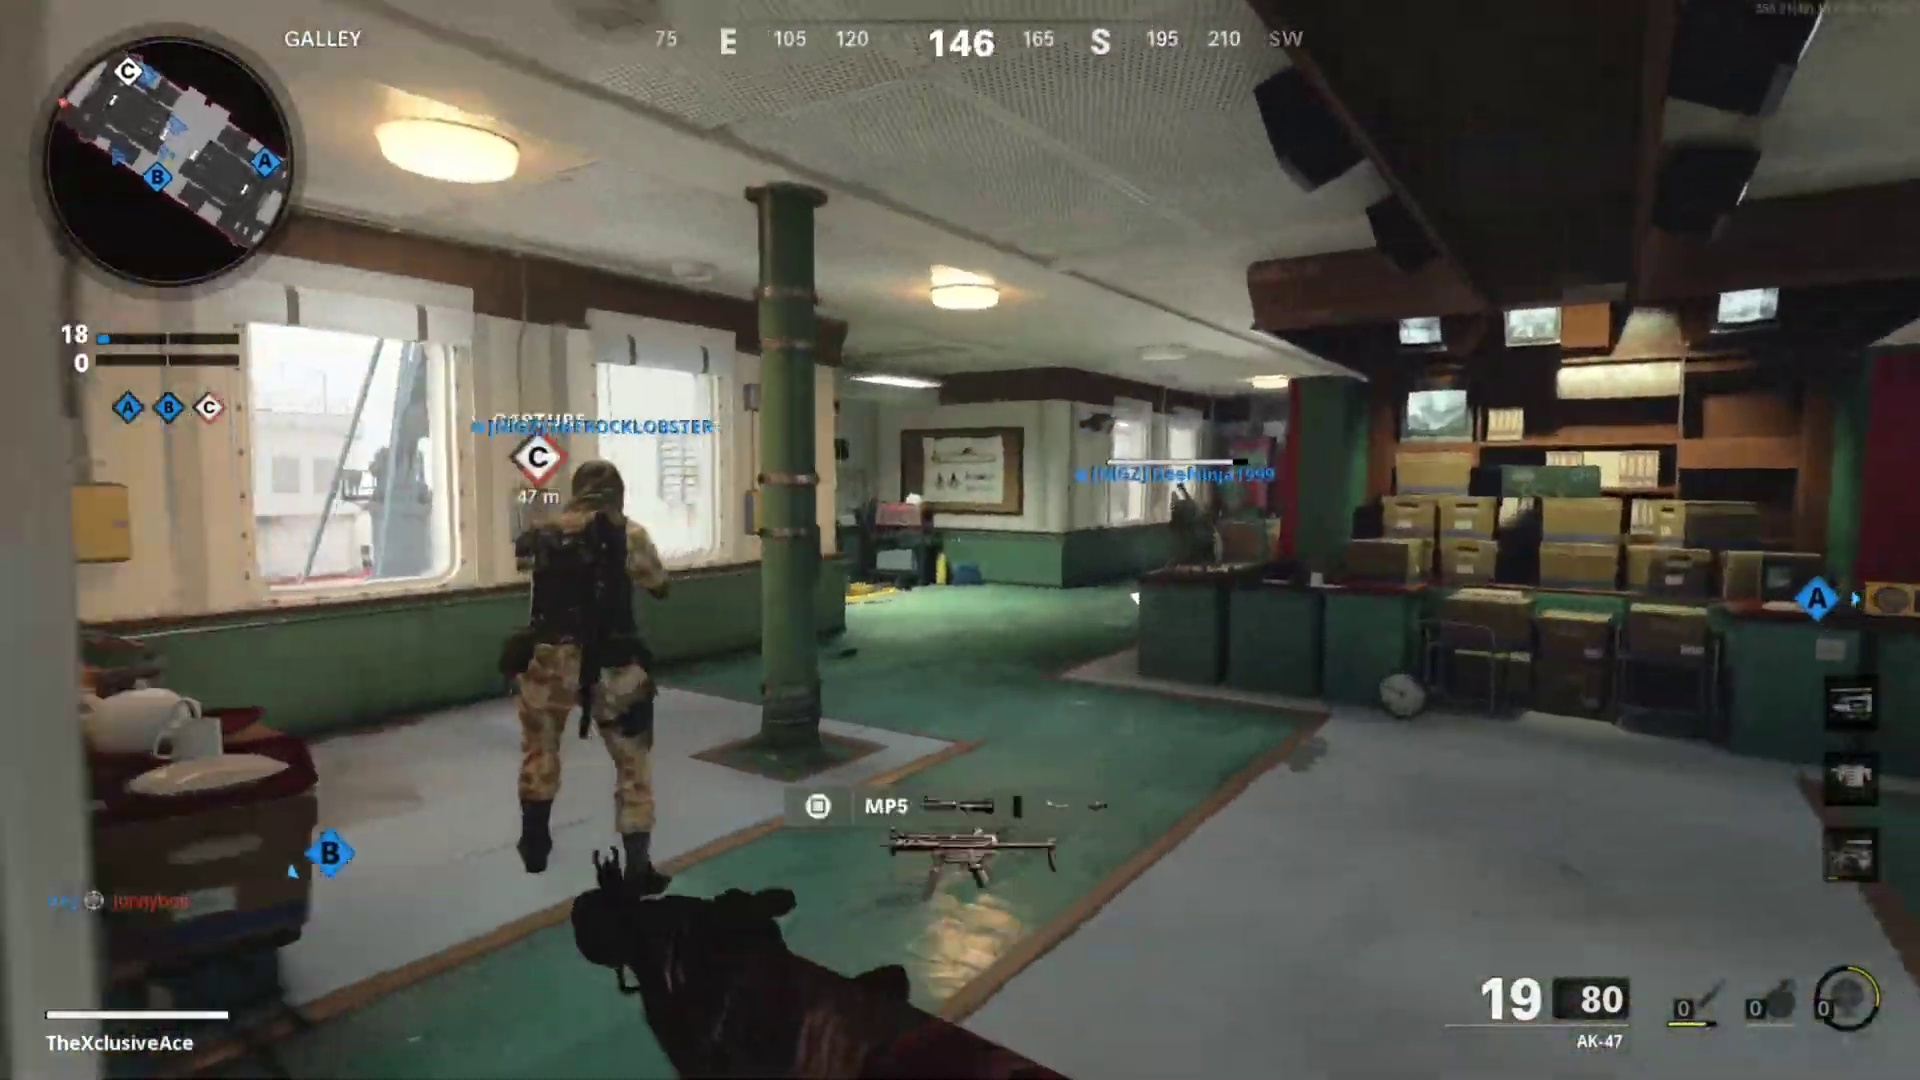head: (555, 456, 624, 525), (508, 431, 561, 493)
person: (502, 461, 669, 873), (1171, 483, 1224, 566)
